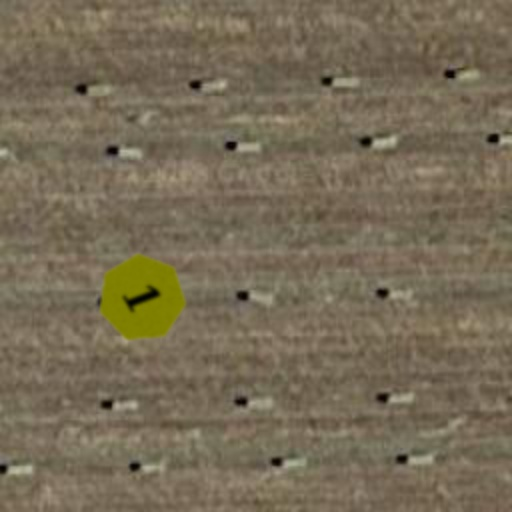heptagon: (80, 236, 204, 360)
